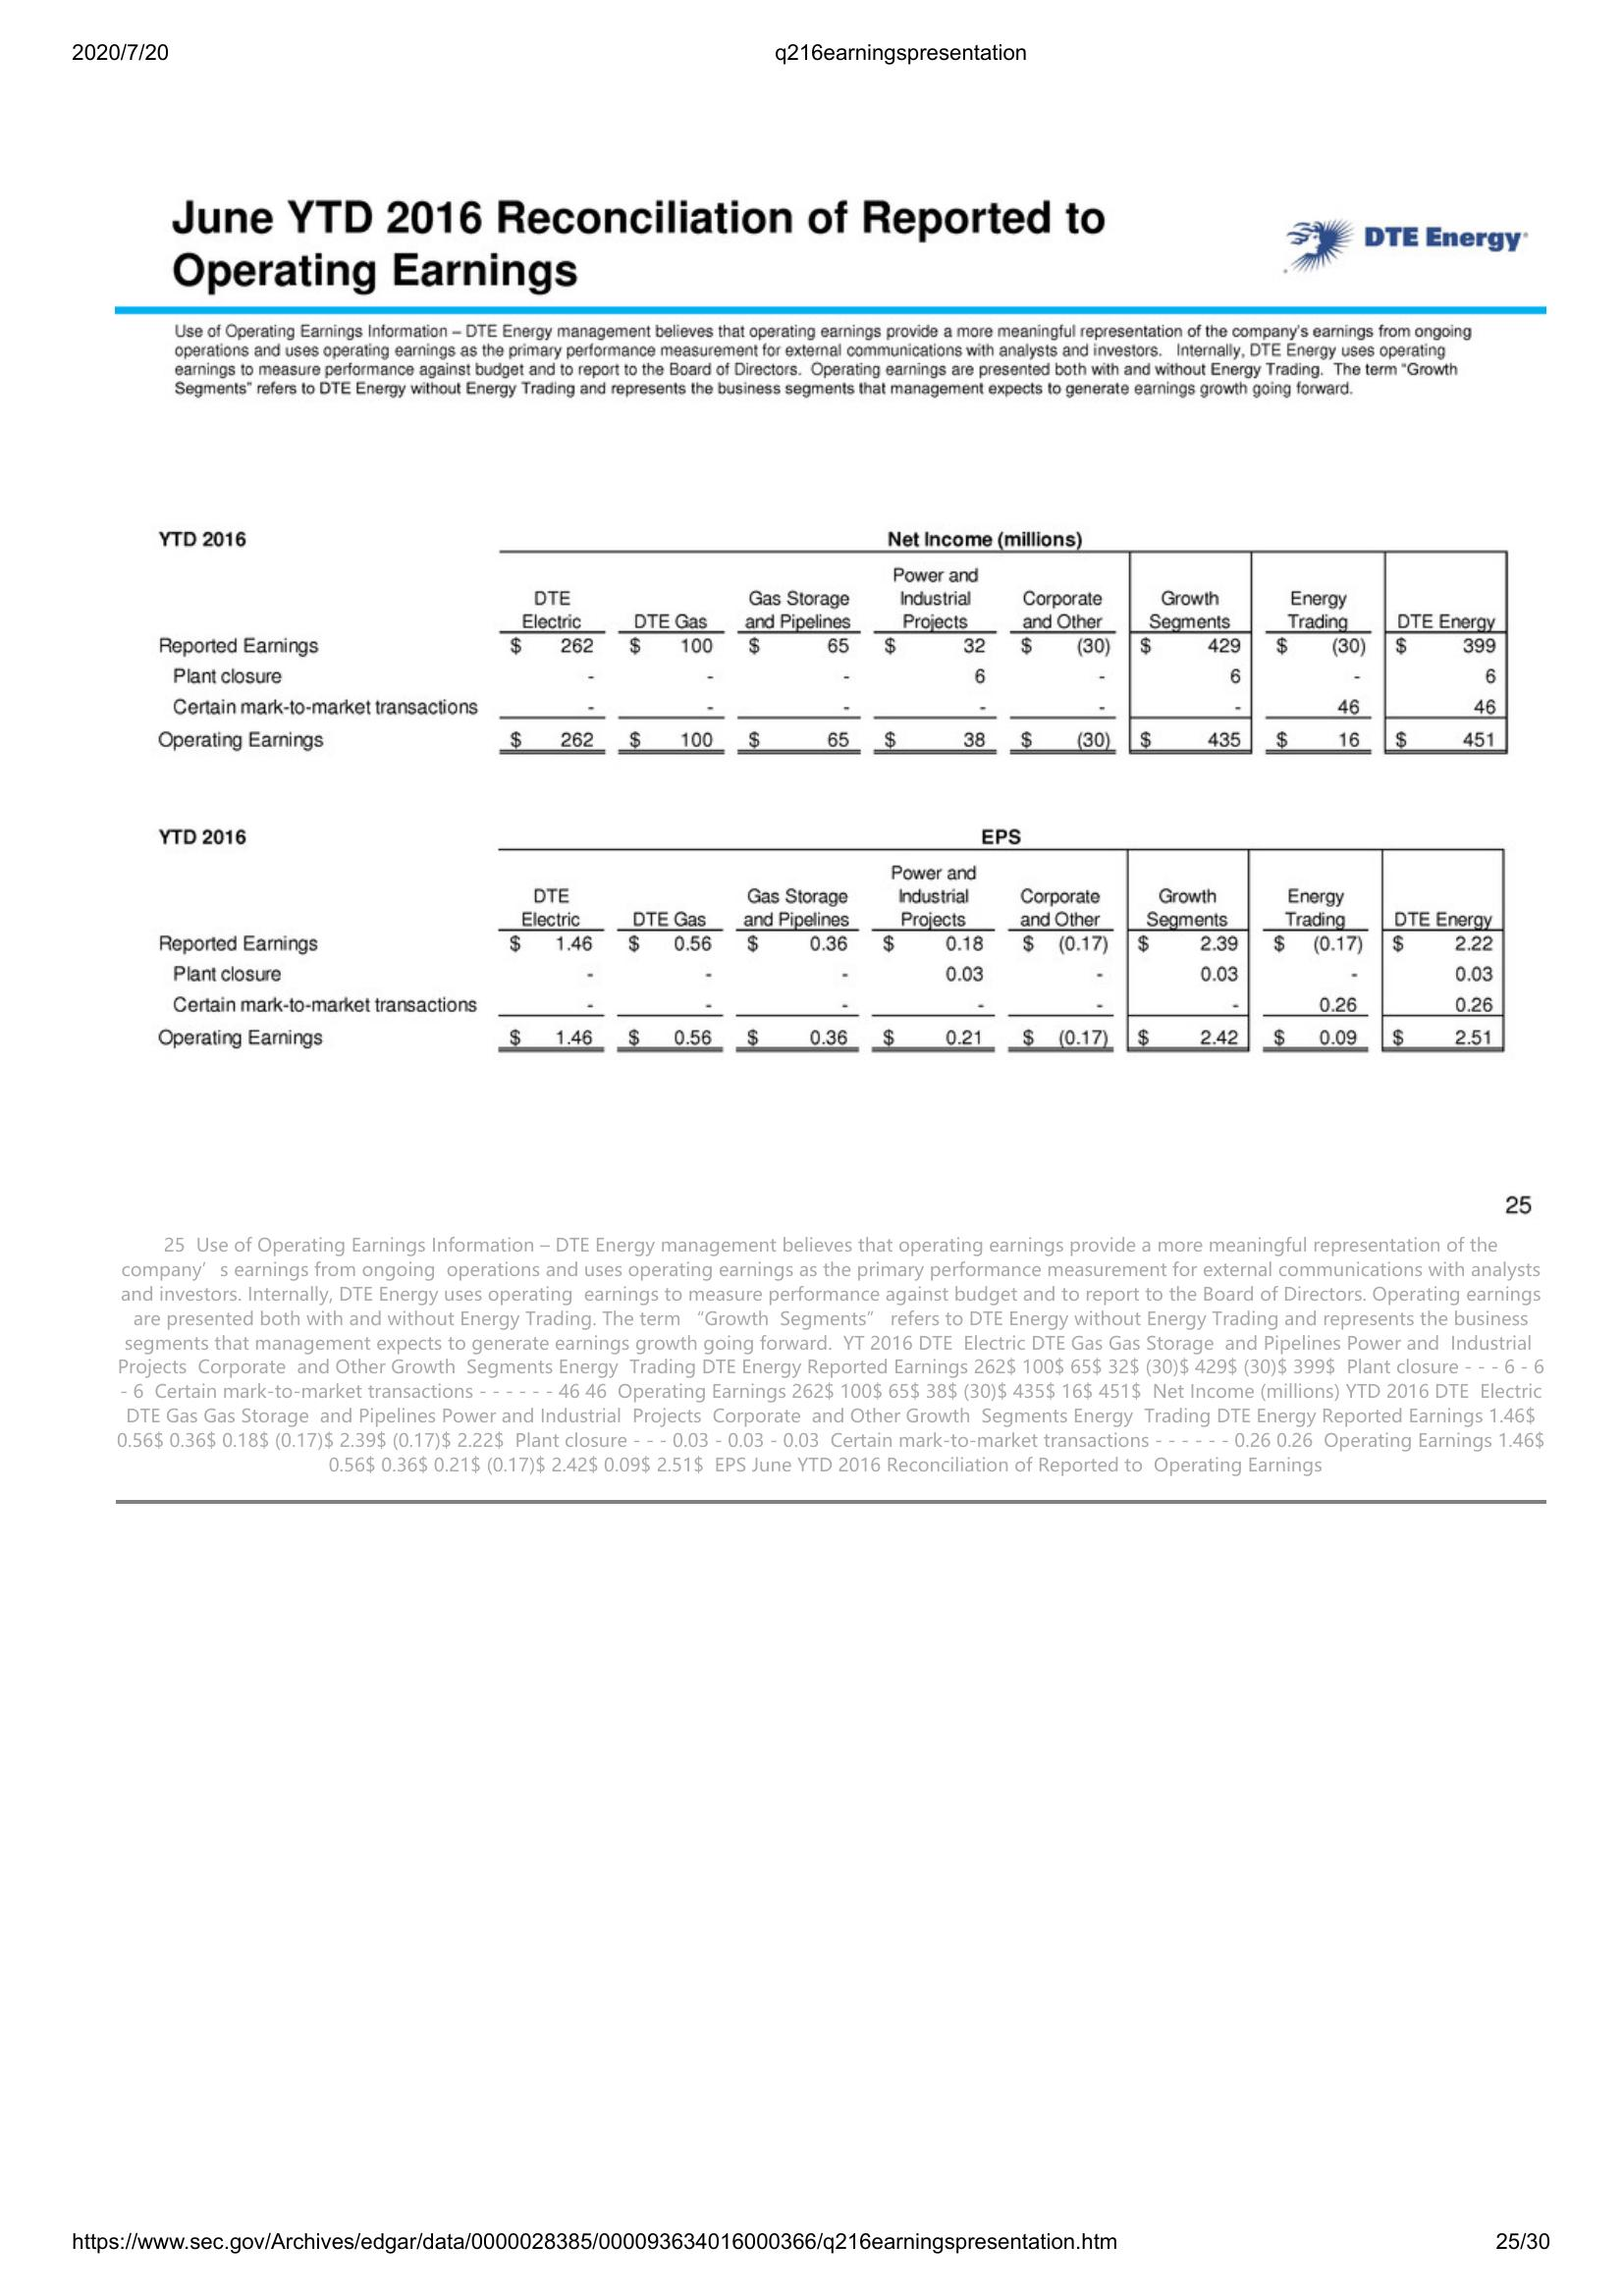table: (156, 506, 1530, 769), (155, 818, 1521, 1065)
